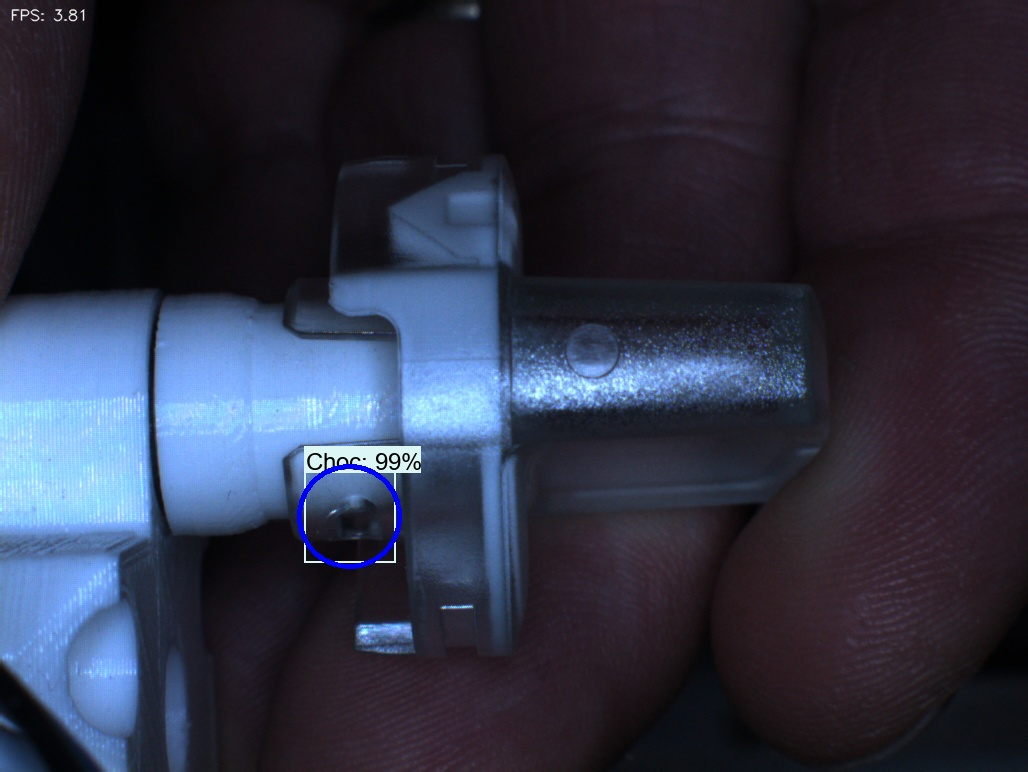DentOk: (359, 178, 440, 279)
